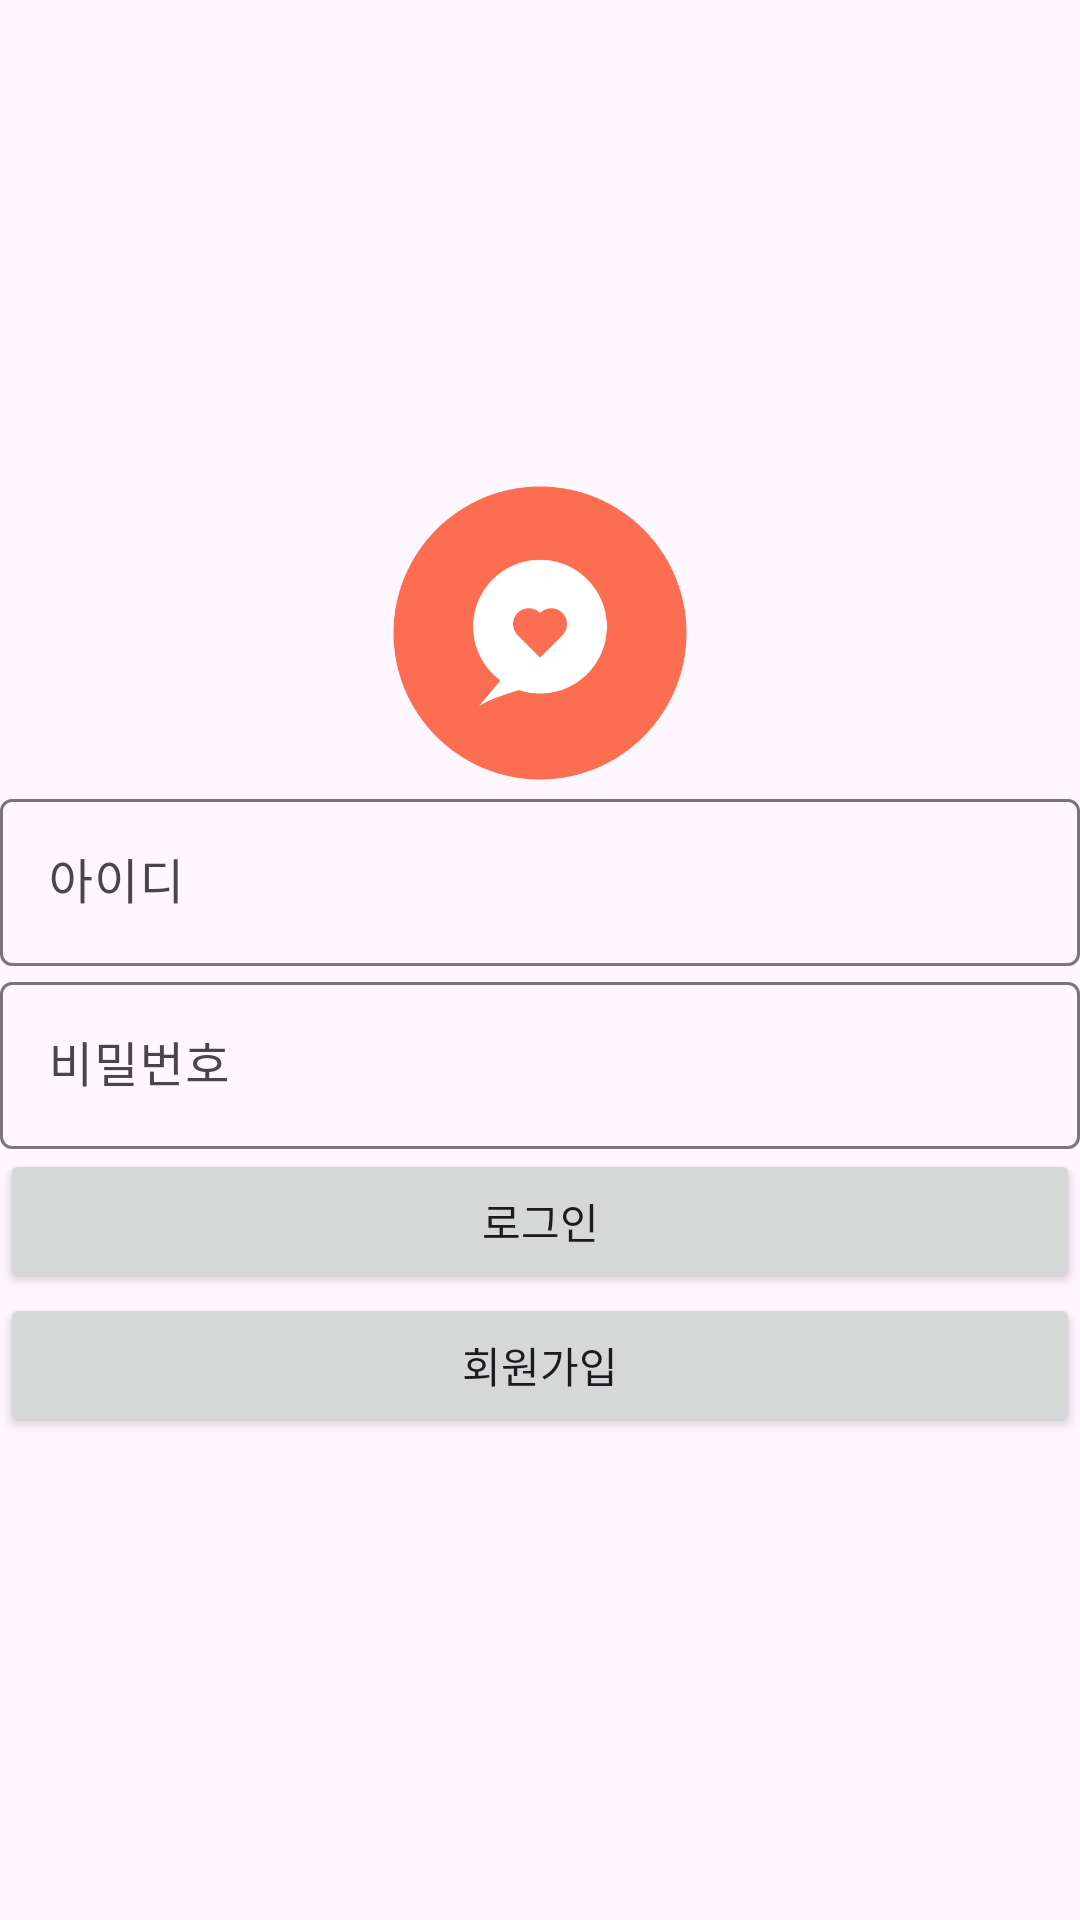

Screen size 1080px x 1920px. Icon name, then its box in pixels as [left=x1, top=y1, right=x2, bottom=y2]:
talk: [left=393, top=486, right=687, bottom=780]
